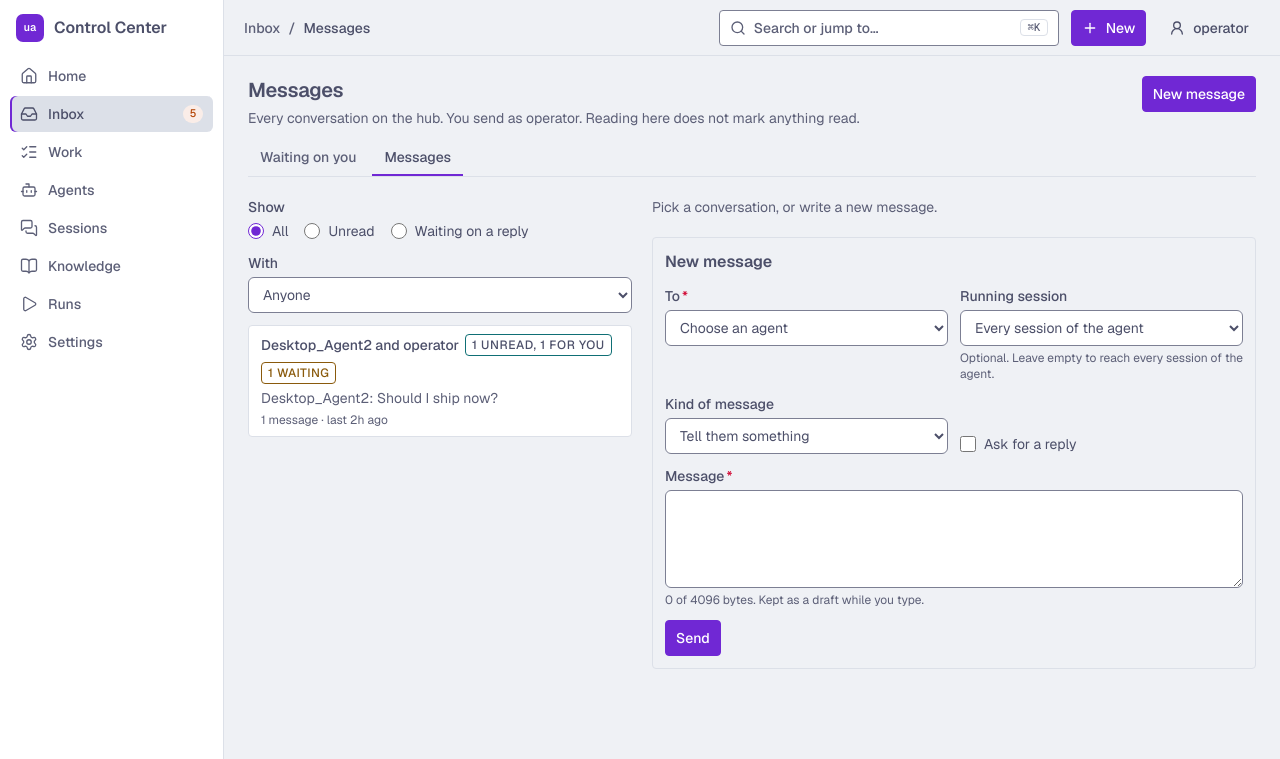
Test: Messages › lists conversations and opens one from the URL; agent text is plain text
The image size is (1280, 759).
What coordinates should you click on to do the following:
click the link "Desktop_Agent2 and operator"
I would click on:
 (360, 345)
Its box is 248,325 -> 632,437.
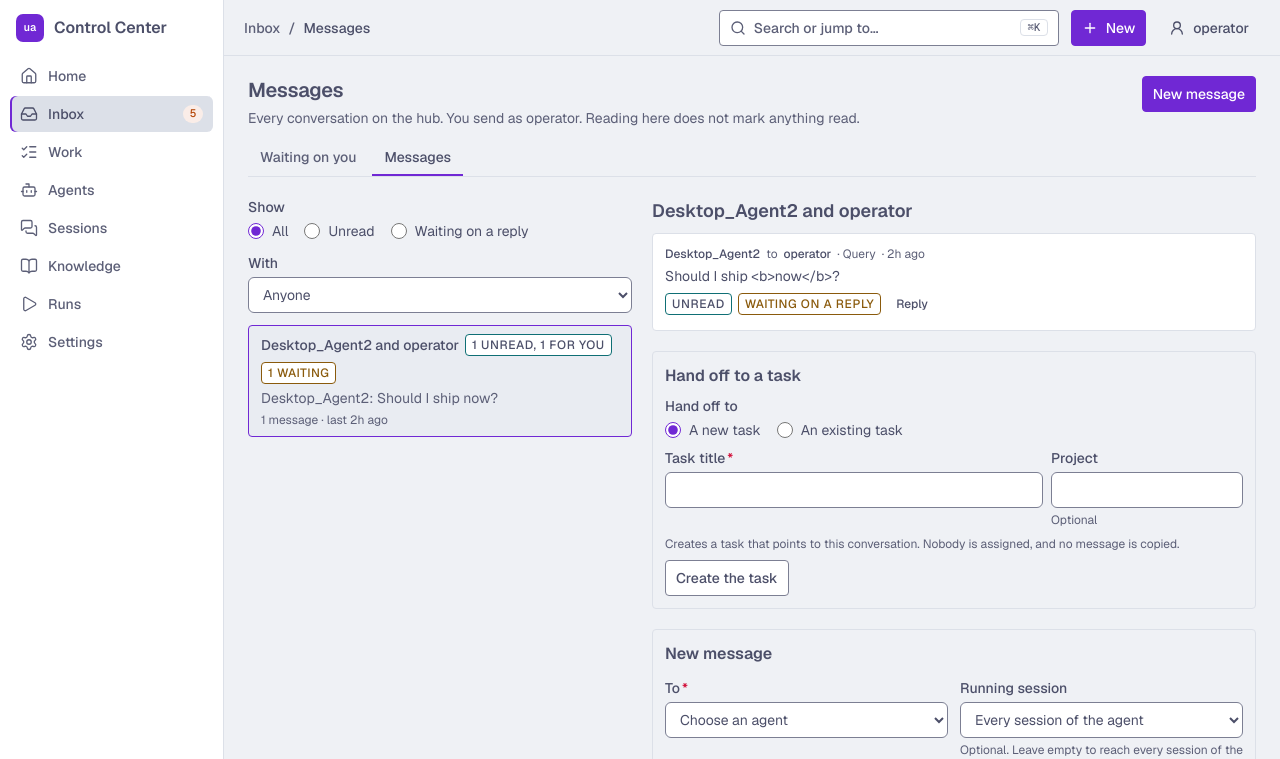
expect the list named "Messages in this conversation" shows "Should I ship <b>now</b>?": met, box 665,267 -> 840,285
